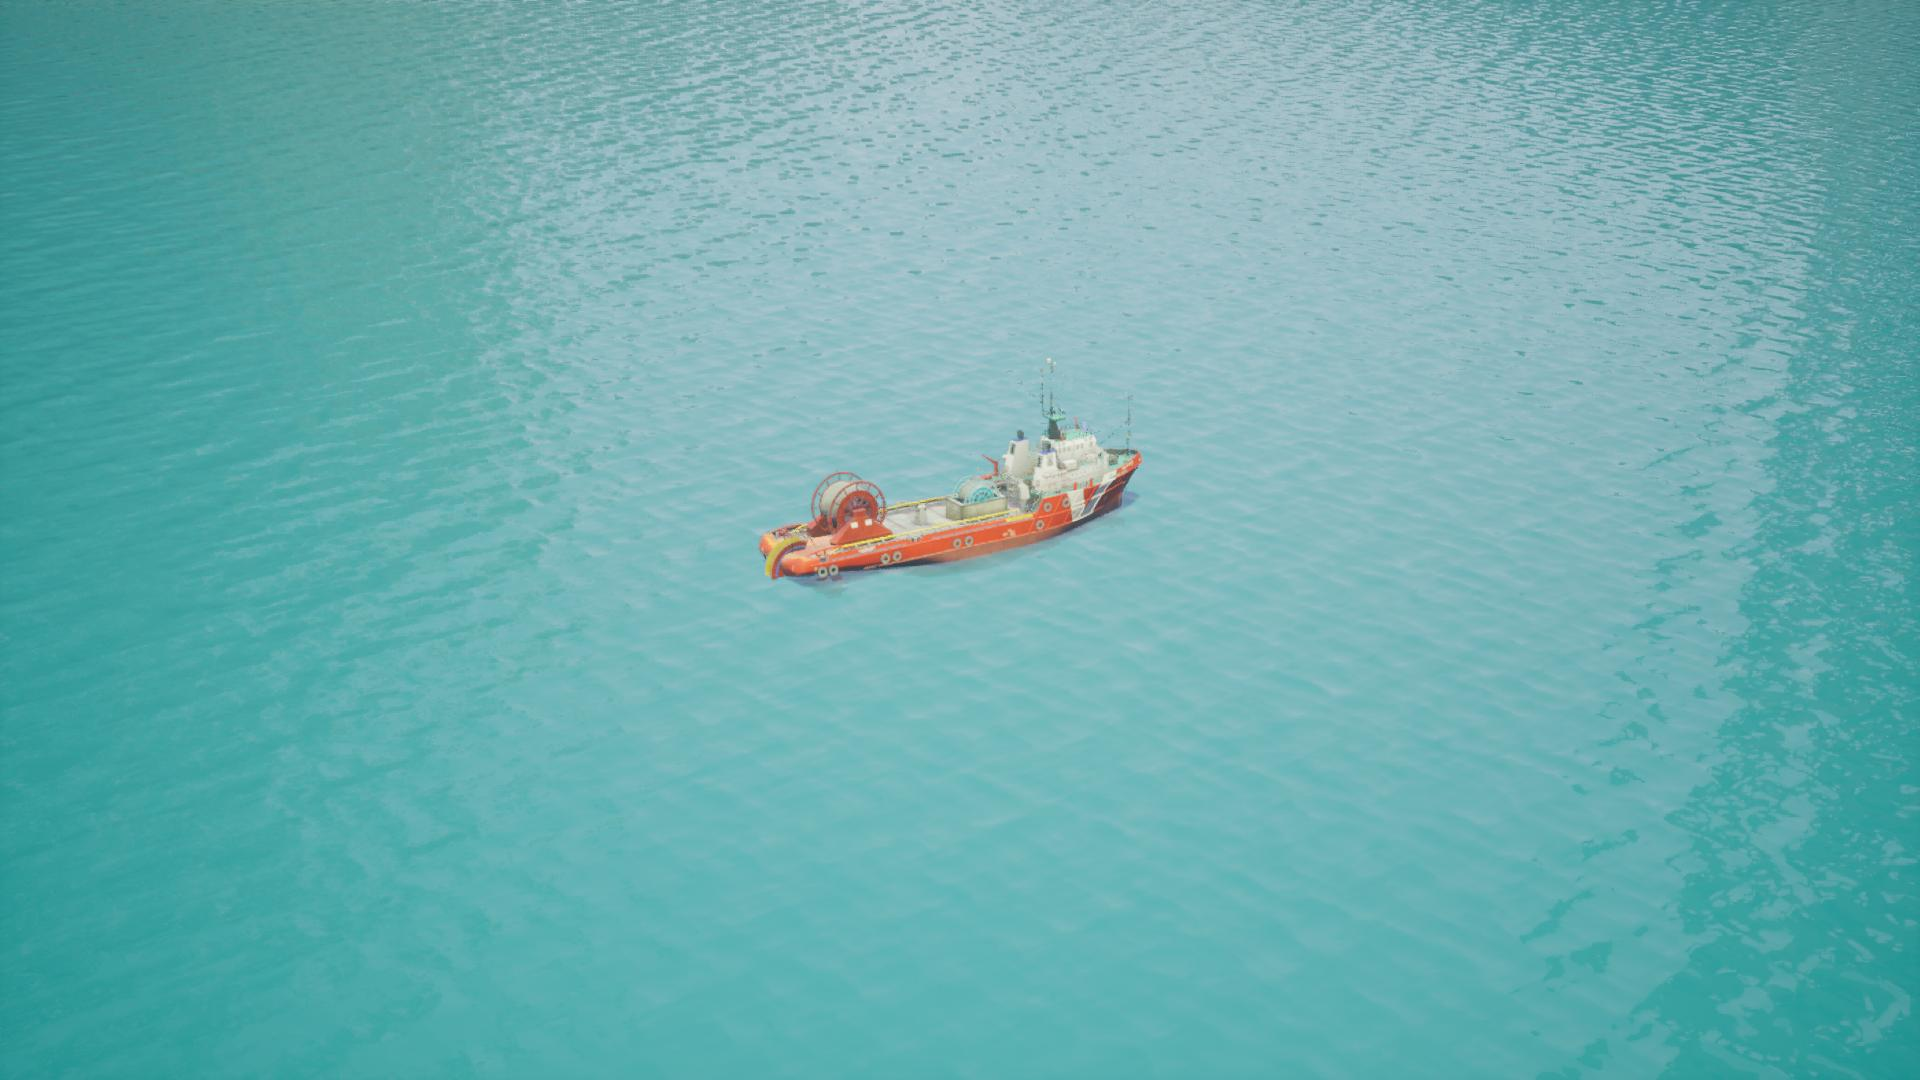Tug Boat: (765, 367, 1146, 588)
